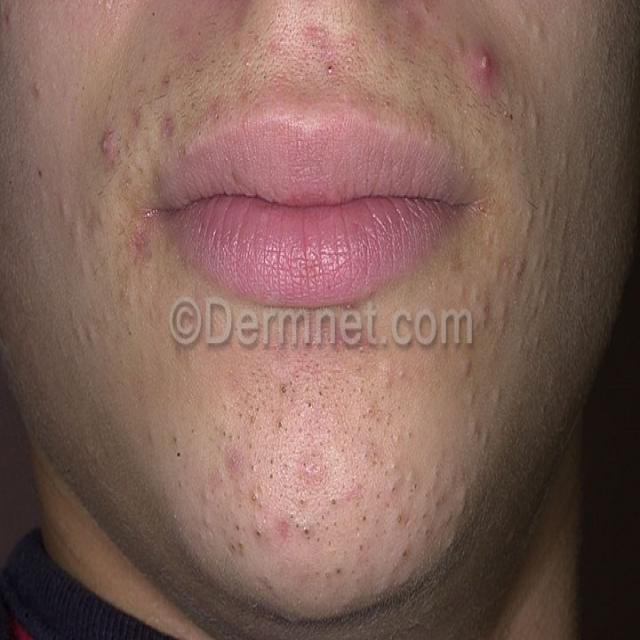Acne: (126, 214, 154, 265), (472, 42, 499, 85), (298, 449, 328, 487), (95, 123, 120, 167), (156, 107, 178, 148), (318, 50, 344, 84), (272, 512, 293, 548)
